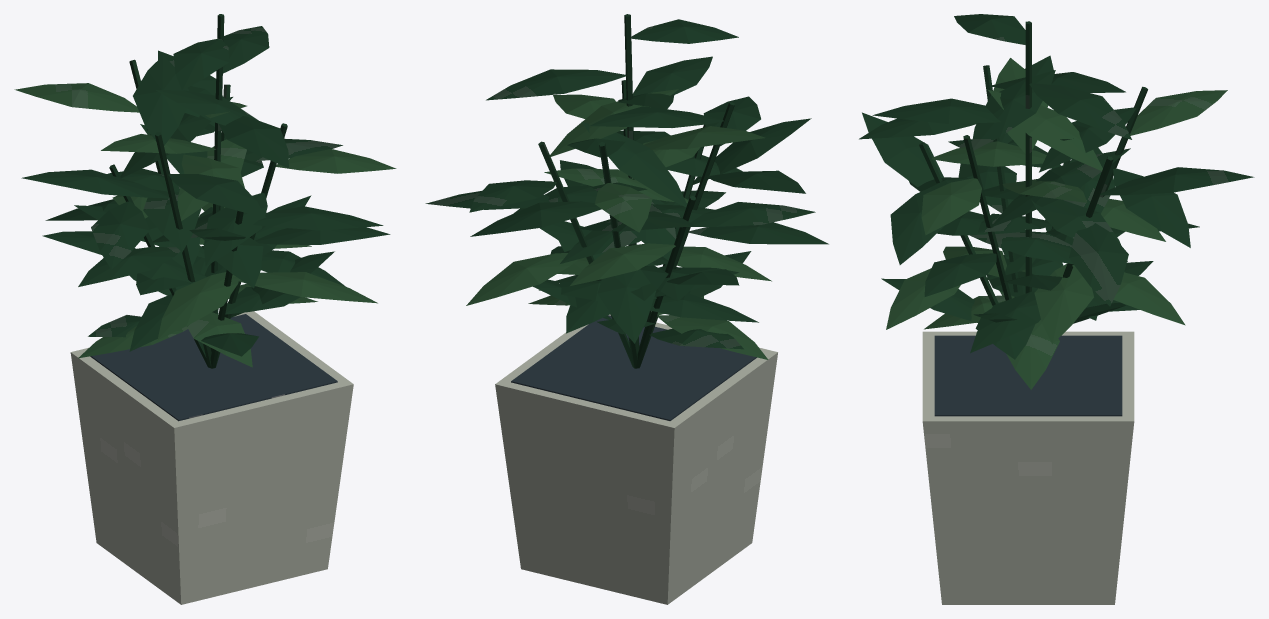
File: pool_potted_plant.glb
3 views of the same model, side by side, from view 1: azimuth 30°, elevation 25°; view 2: azimuth 150°, elevation 25°; view 3: azimuth 270°, elevation 25° (orthographic). The views are drawn at different scales.
Visible parts, largest first — view 1: pool_pool_potted_plant; view 2: pool_pool_potted_plant; view 3: pool_pool_potted_plant.
Boxes of the visible parts, x1=… form: pool_pool_potted_plant: x1=14, y1=14, x2=396, y2=604; pool_pool_potted_plant: x1=425, y1=14, x2=828, y2=604; pool_pool_potted_plant: x1=859, y1=14, x2=1254, y2=604.
Bounding box in the file's own units: 0.5882 × 0.8601 × 0.5617.
Materials: 4 (4 with a texture image).
